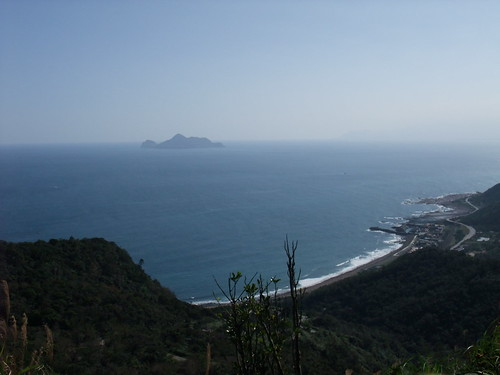turtleIslandLeft: (140, 133, 224, 149)
